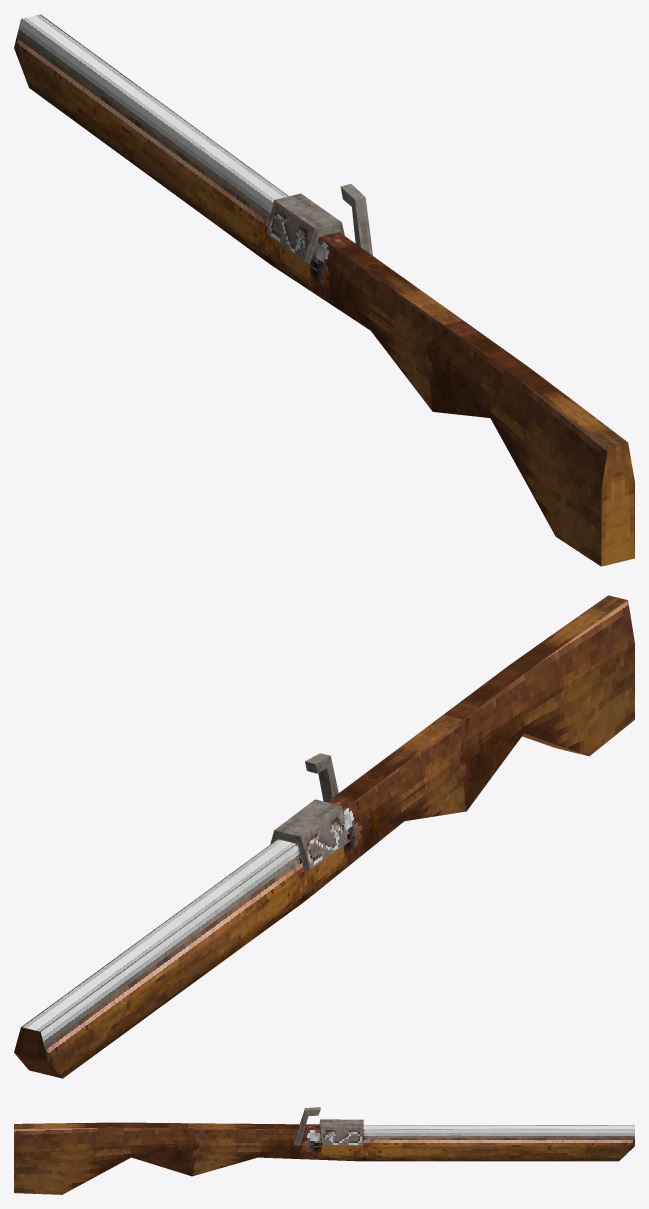
The model's file is rifle.glb.
The picture shows the model from 3 angles, top to bottom: view 1: azimuth 30°, elevation 25°; view 2: azimuth 150°, elevation 25°; view 3: azimuth 270°, elevation 25°; orthographic projection. The views are drawn at different scales.
Parts seen in each view (by area): view 1: Rifle, Flintlock; view 2: Rifle, Flintlock; view 3: Rifle, Flintlock.
Part boxes in pixels (x1,y1,x2,y2): Rifle: (14, 14, 634, 566); Flintlock: (340, 184, 372, 255); Rifle: (14, 595, 634, 1078); Flintlock: (305, 753, 338, 802); Rifle: (14, 1119, 634, 1194); Flintlock: (293, 1107, 320, 1145).
Bounding box in the file's own units: 0.2604 × 0.8997 × 5.83.
1 material, 1 textured.
